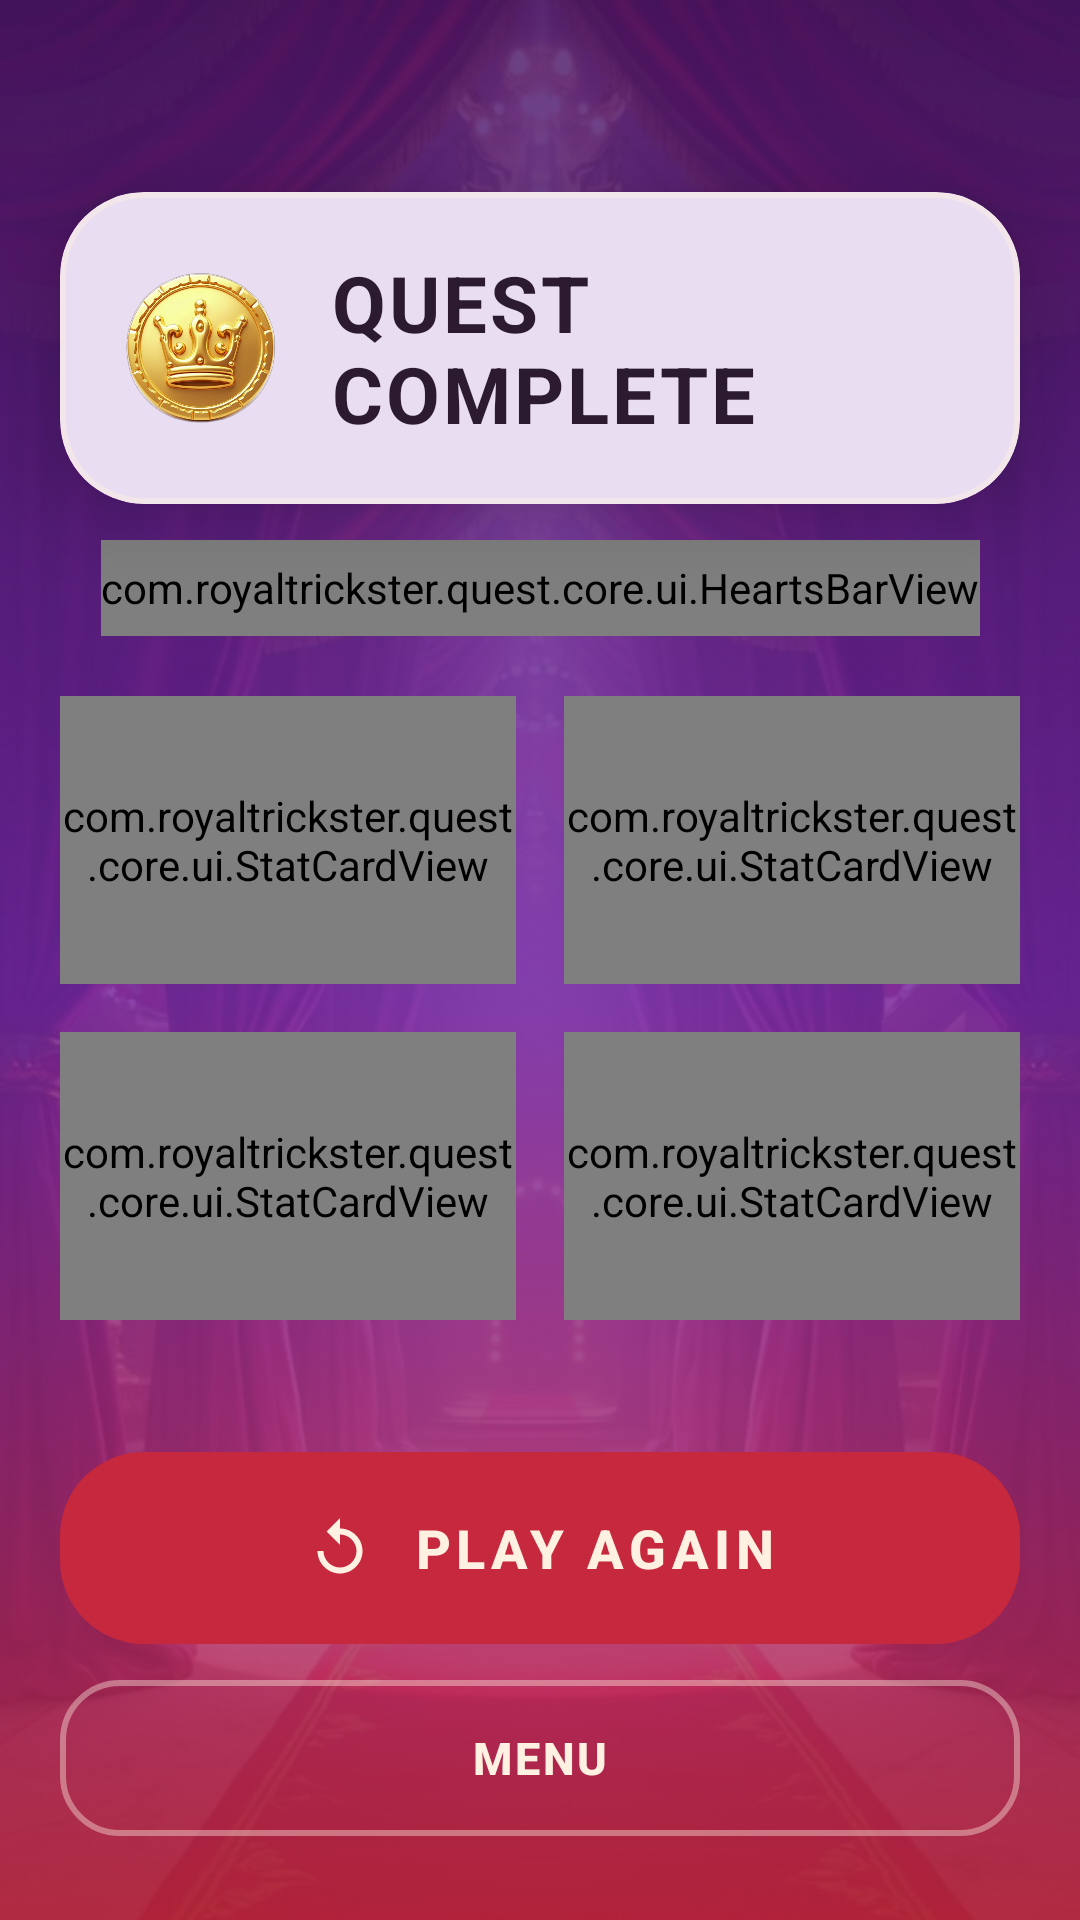

Screen size 1080px x 1920px. Icon name, then its box in pixels as (x1,y1,x2,y2):
Gold crown trophy: (126,273,275,423)
